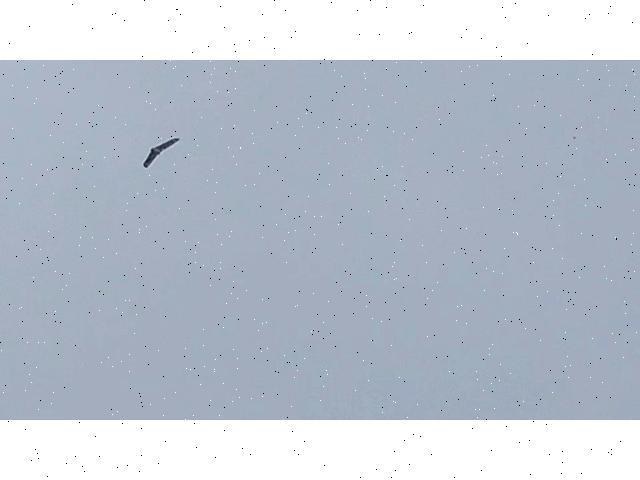Anti-Drone: (143, 137, 181, 169)
